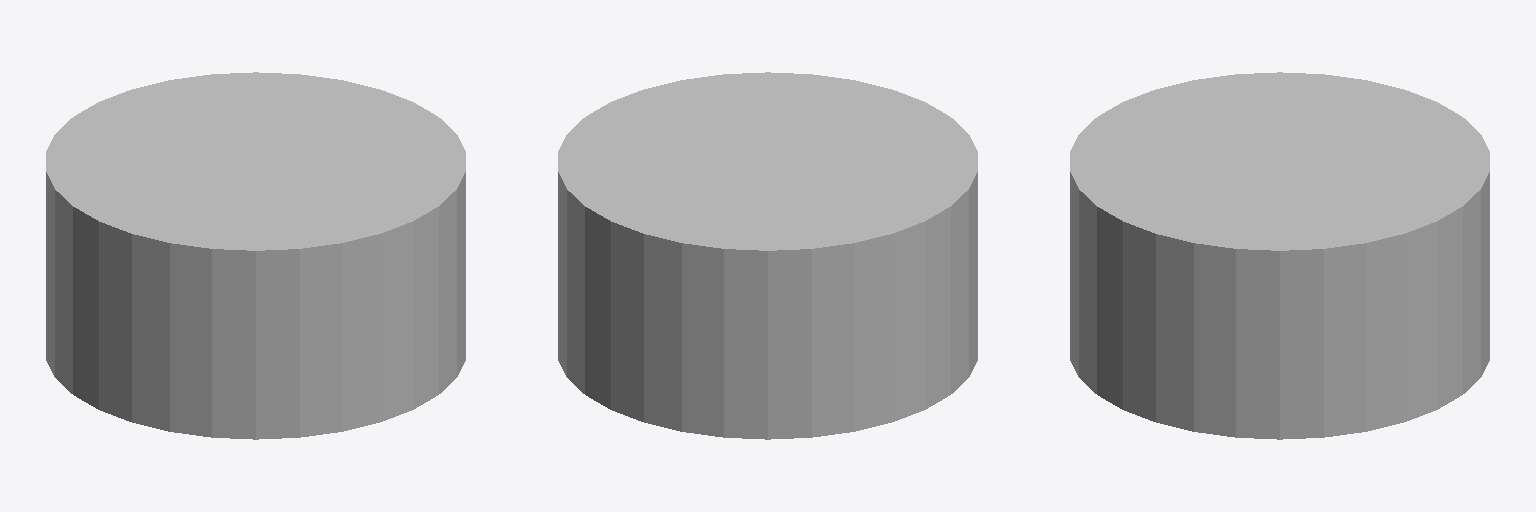
File: Lamp post.obj
3 renders of one model, left to right at view 1: azimuth 30°, elevation 25°; view 2: azimuth 150°, elevation 25°; view 3: azimuth 270°, elevation 25°, orthographic.
Visible parts, largest first — view 1: Cylinder001, Cylinder004, Cylinder003, Object001; view 2: Cylinder001, Cylinder003, Cylinder004, Object001; view 3: Cylinder001, Cylinder003, Cylinder004, Object001.
Boxes of the visible parts, x1,y1,x2,y2 form: Cylinder001: [46, 72, 465, 439]; Cylinder004: [46, 73, 464, 250]; Cylinder003: [46, 72, 465, 250]; Object001: [46, 72, 465, 248]; Cylinder001: [558, 72, 977, 439]; Cylinder003: [558, 72, 977, 250]; Cylinder004: [559, 74, 977, 249]; Object001: [558, 72, 976, 250]; Cylinder001: [1070, 72, 1489, 439]; Cylinder003: [1070, 72, 1489, 250]; Cylinder004: [1070, 73, 1489, 245]; Object001: [1070, 72, 1489, 250].
Bounding box in the file's own units: 13545 × 6676 × 13471.